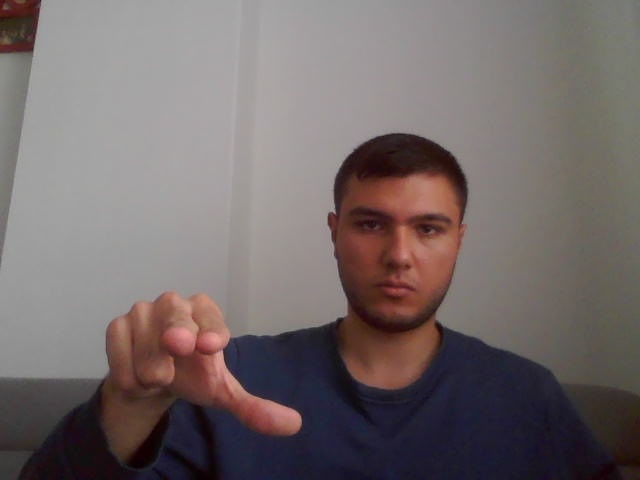no: (103, 286, 303, 442)
